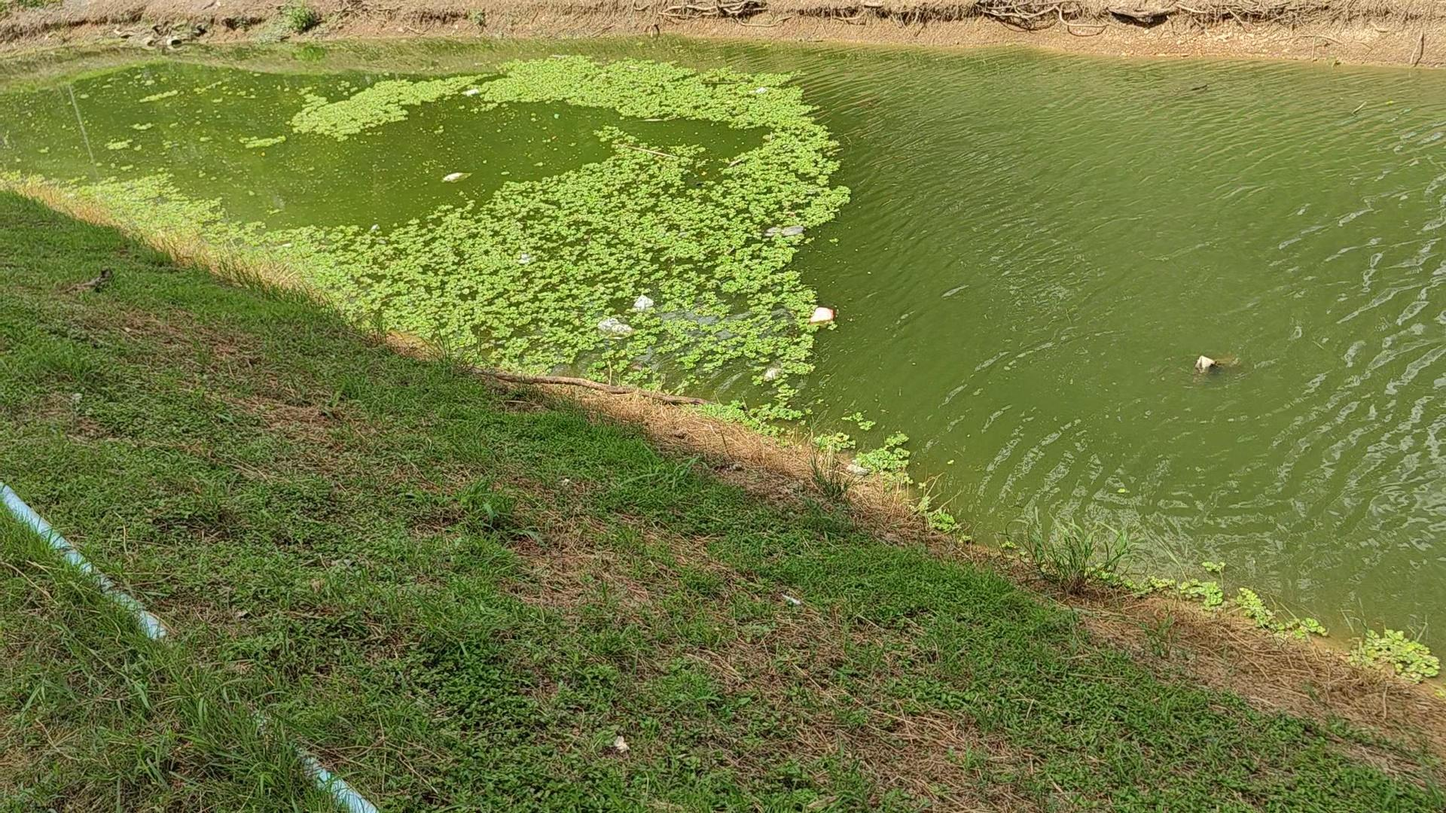trash: (599, 317, 633, 336), (810, 306, 834, 323), (1194, 355, 1218, 372), (633, 295, 653, 310), (781, 225, 804, 236), (763, 367, 782, 380), (444, 172, 469, 181), (519, 252, 533, 264), (464, 87, 480, 95), (755, 87, 770, 93)
